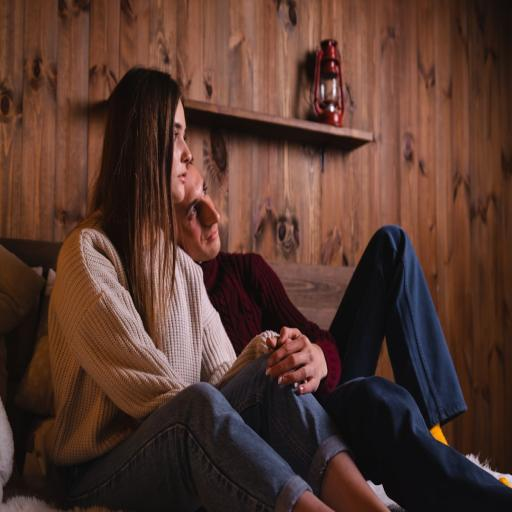face: (185, 171, 222, 261), (166, 102, 191, 200)
